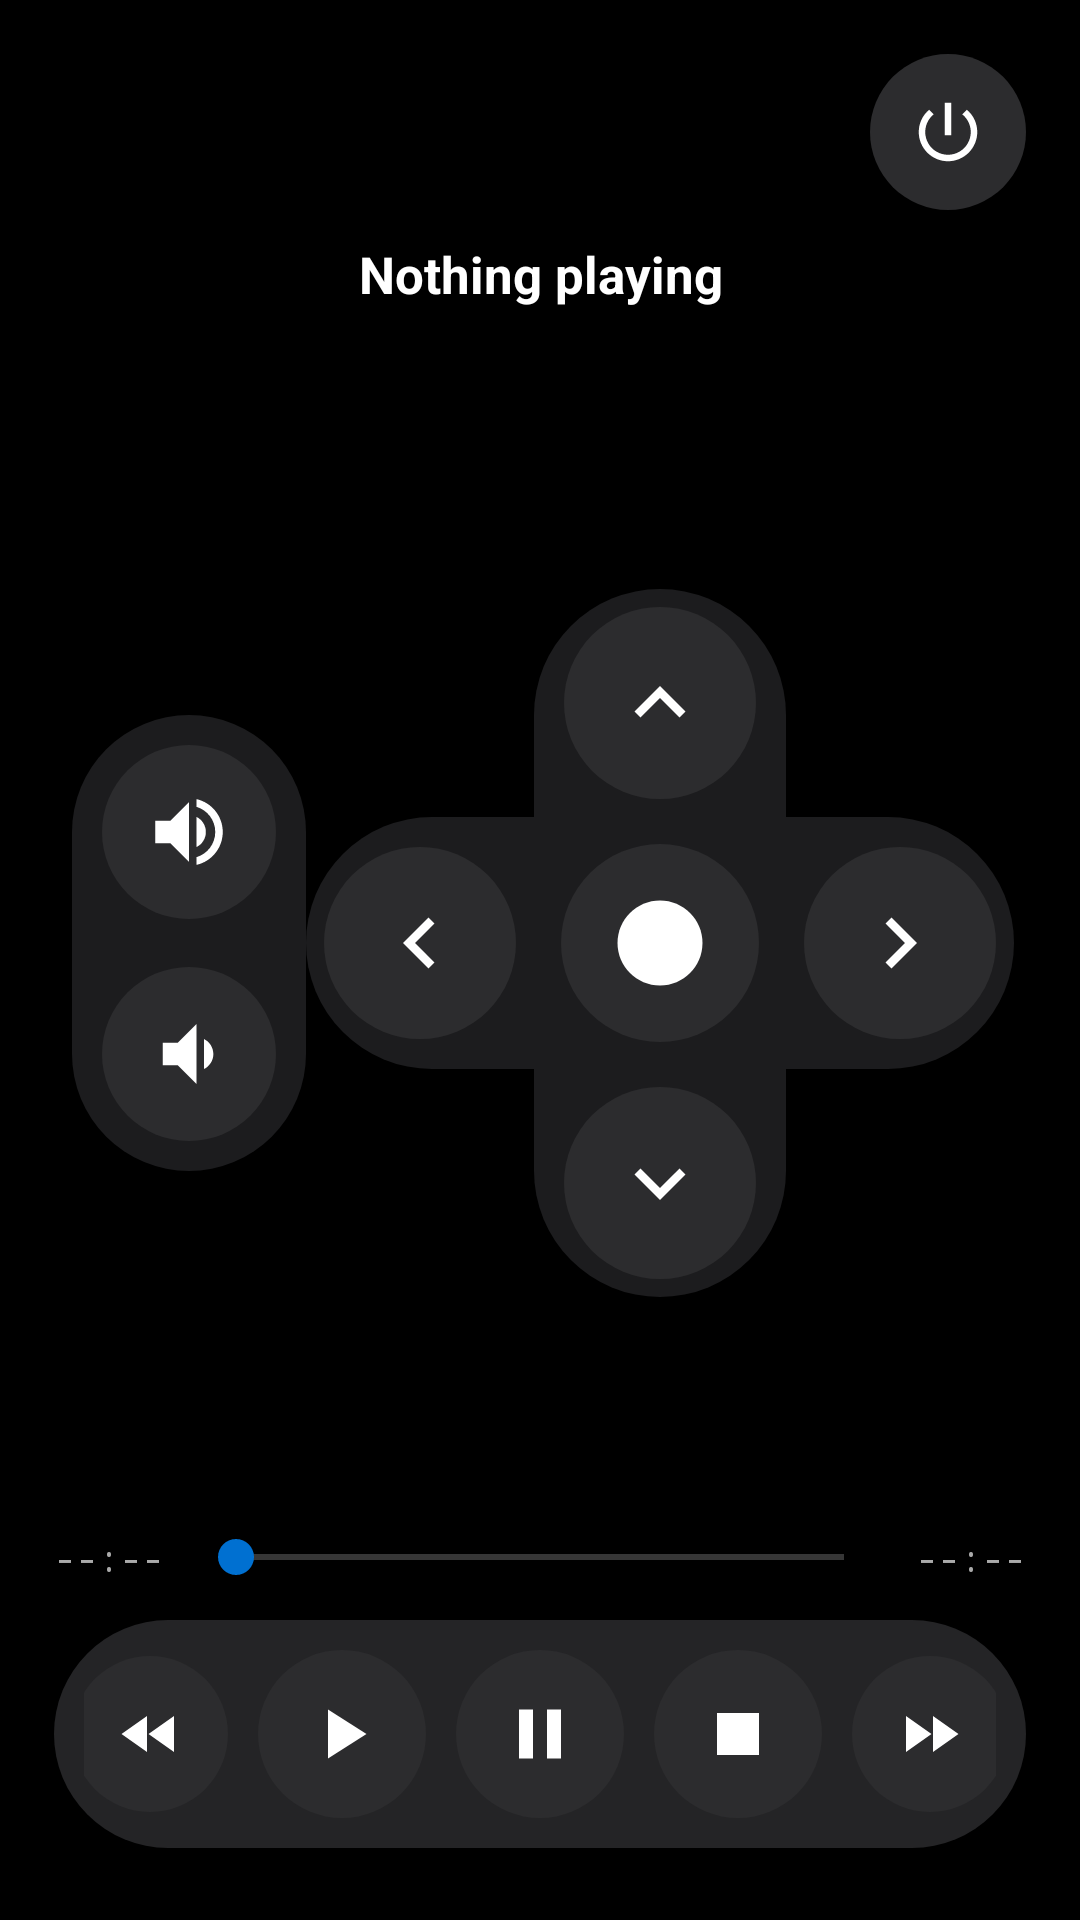

Named icons in this screenshot (1080 x 1920) and their centers, point (x, y):
Disconnect: point (948, 132)
Forward: point (932, 1734)
Pause: point (540, 1734)
Play: point (347, 1734)
Rewind: point (147, 1734)
Volume down: point (189, 1054)
Volume up: point (189, 832)
